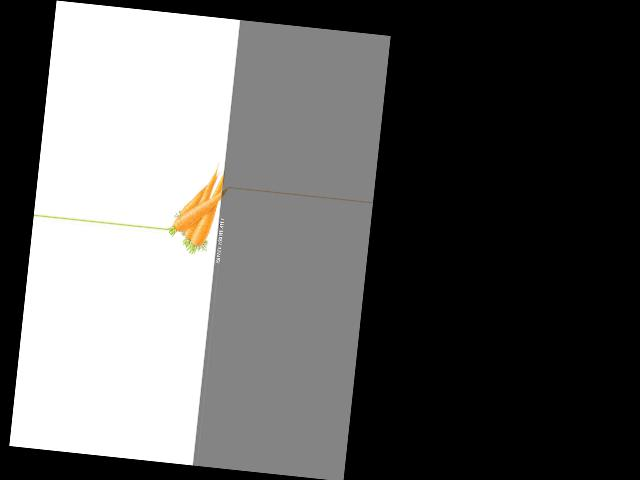carrot: (190, 193, 228, 257)
